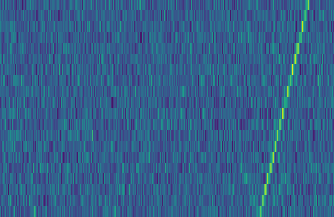signal: (257, 0, 317, 217)
